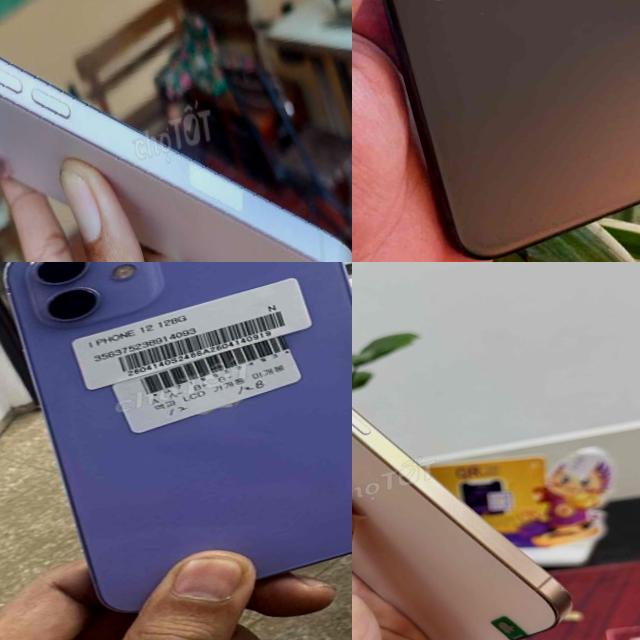gen_11: (384, 0, 640, 256)
gen_12_13: (0, 262, 352, 633)
gen_15: (0, 0, 352, 262)
gen_16: (352, 404, 570, 640)
